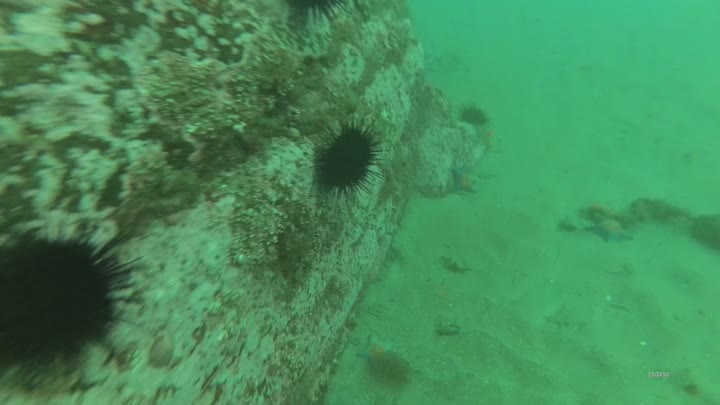echinus: (1, 200, 147, 373), (308, 114, 393, 205), (287, 1, 366, 27), (457, 101, 490, 128)
starfish: (355, 334, 413, 372), (584, 215, 636, 245), (451, 163, 485, 196)
